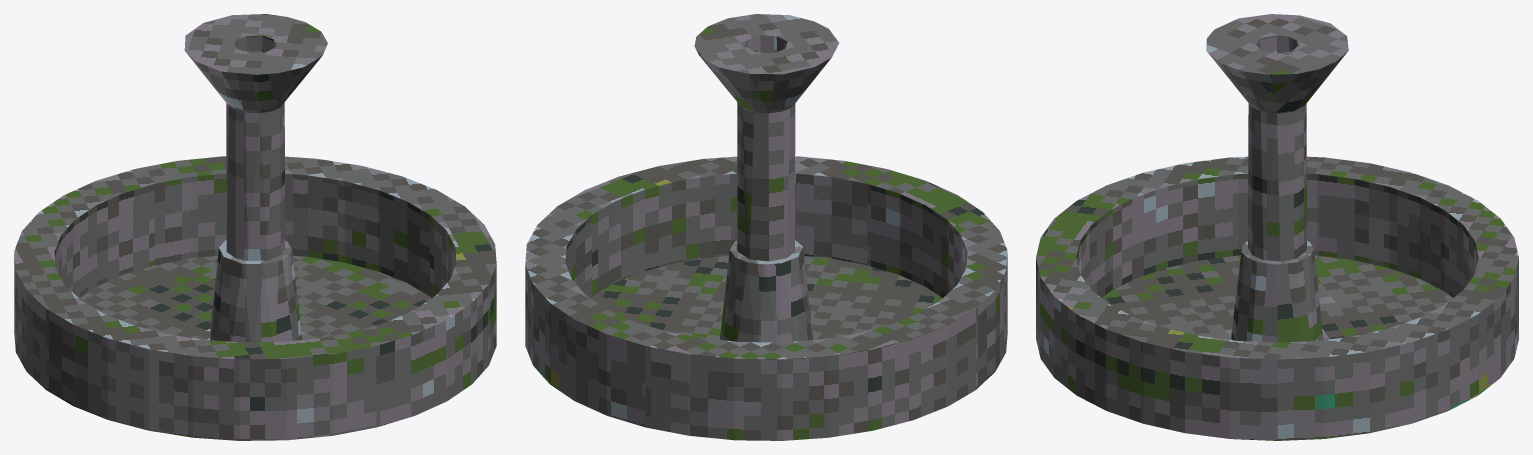
The model's file is Fountain.fbx.
3 renders of one model, left to right at view 1: azimuth 30°, elevation 25°; view 2: azimuth 150°, elevation 25°; view 3: azimuth 270°, elevation 25°, orthographic.
Visible parts, largest first — view 1: Fountain; view 2: Fountain; view 3: Fountain.
Part boxes in pixels (<box>): Fountain: <box>14,14,496,440</box>; Fountain: <box>525,14,1007,440</box>; Fountain: <box>1036,14,1518,440</box>.
Size of the model in its own units: 1.36 by 1.36 by 0.9169.
1 material, 1 textured.
